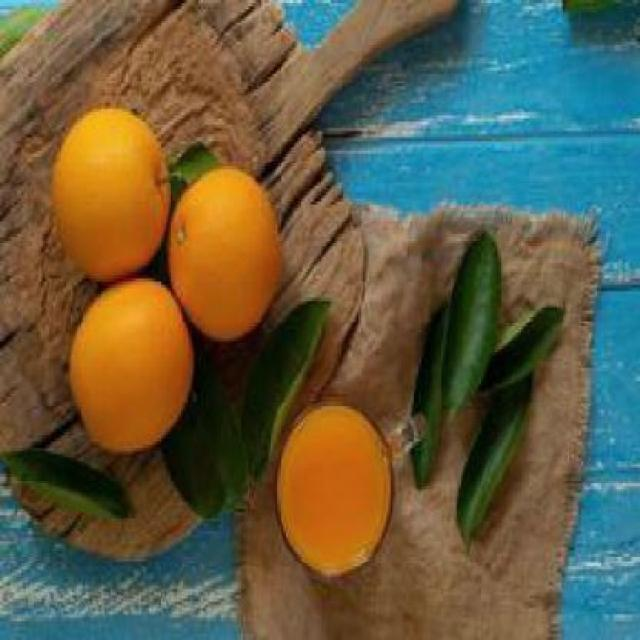Jeruk Sudah Matang: (68, 274, 192, 454), (171, 169, 286, 349), (56, 116, 166, 282)
